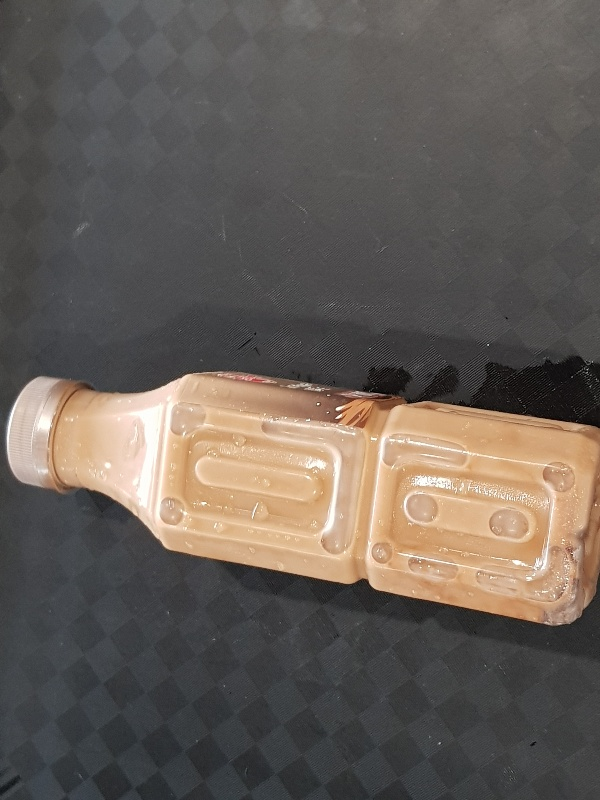Mocha: (5, 369, 600, 627)
